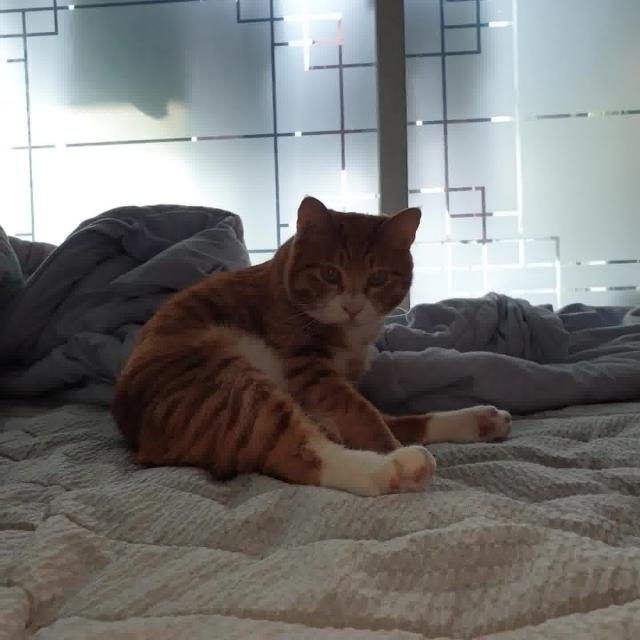cat: (92, 165, 530, 507)
